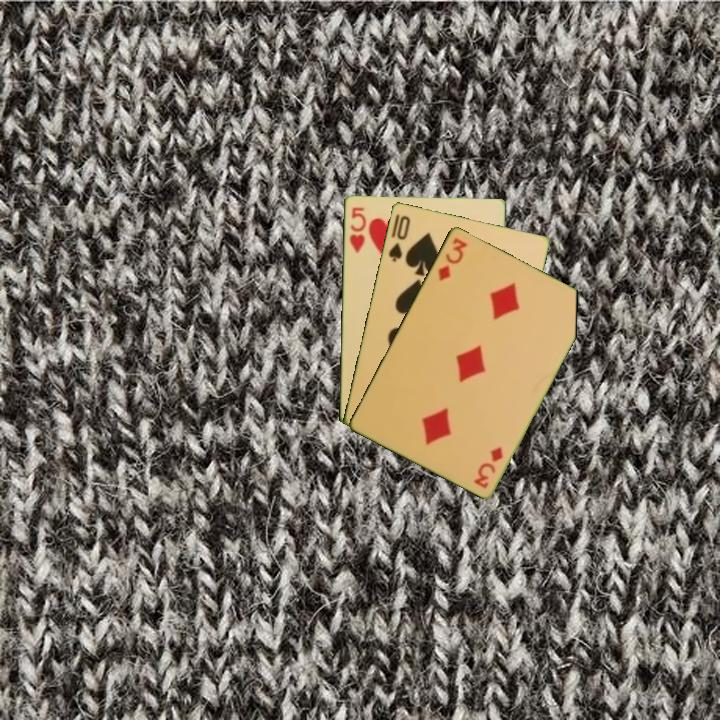10s: (385, 212, 413, 264)
3d: (434, 234, 470, 284), (471, 443, 506, 491)
5h: (346, 203, 369, 256)
